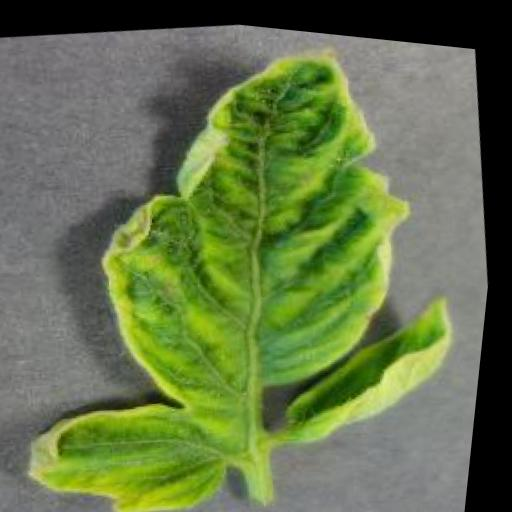Yellow Leaf Curl Virus: (0, 1, 505, 512)
